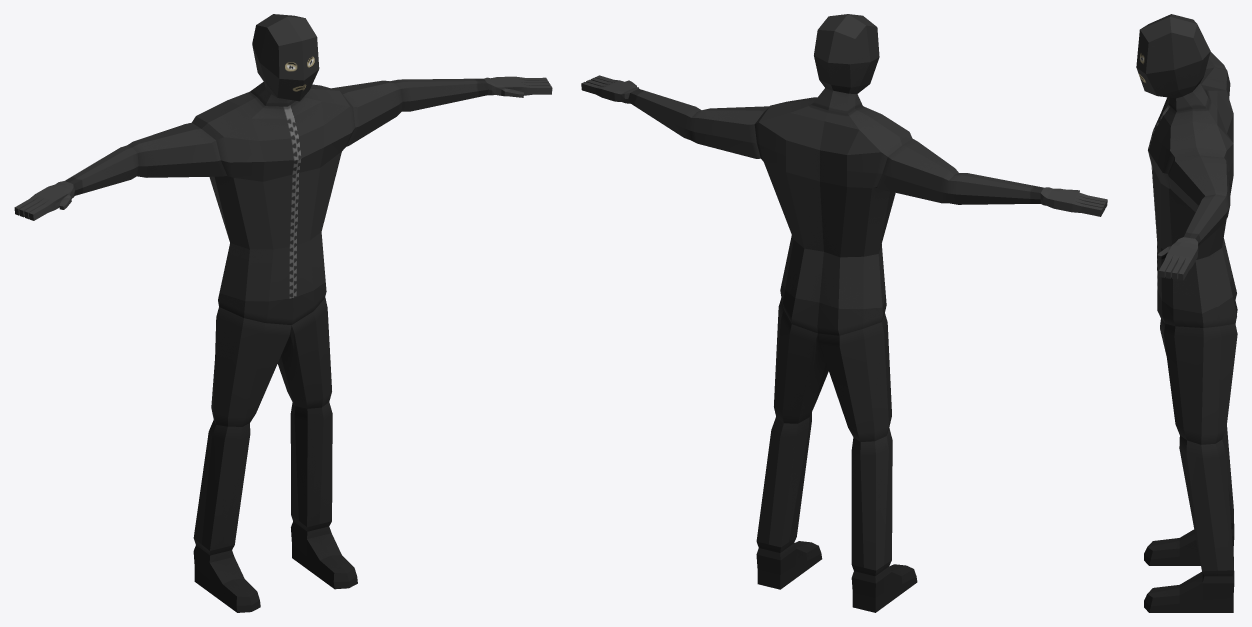
Rendered from Human_Bandit.fbx.
3 renders of one model, left to right at view 1: azimuth 30°, elevation 25°; view 2: azimuth 150°, elevation 25°; view 3: azimuth 270°, elevation 25°, orthographic. The views are drawn at different scales.
Parts seen in each view (by area): view 1: Human_Bandit1:pCube10; view 2: Human_Bandit1:pCube10; view 3: Human_Bandit1:pCube10.
Part boxes in pixels (left/top/right/bottom): Human_Bandit1:pCube10: left=14, top=14, right=552, bottom=612; Human_Bandit1:pCube10: left=581, top=14, right=1107, bottom=612; Human_Bandit1:pCube10: left=1136, top=14, right=1237, bottom=612.
Size of the model in its own units: 2.27 by 2.34 by 0.3789.
